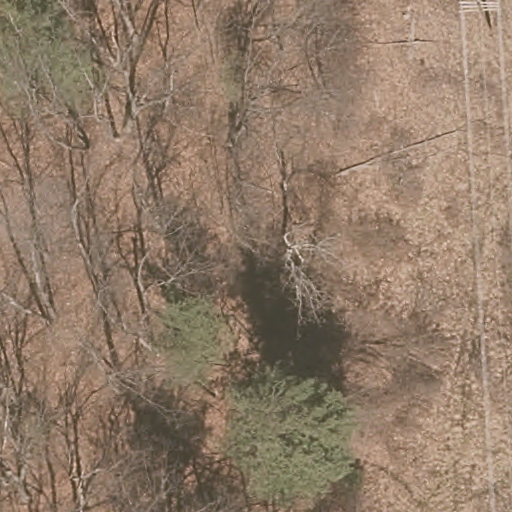DT: (458, 1, 500, 32)
